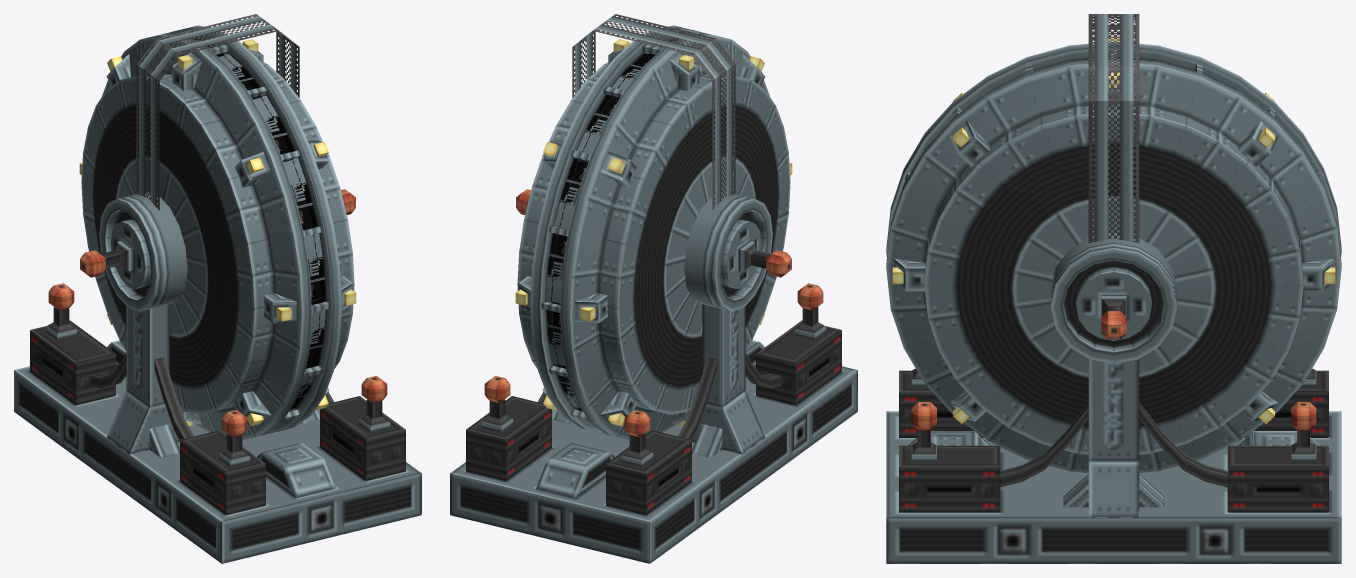
File: fensu2.obj
3 views of the same model, side by side, from view 1: azimuth 30°, elevation 25°; view 2: azimuth 150°, elevation 25°; view 3: azimuth 270°, elevation 25° (orthographic). The views are drawn at different scales.
Parts seen in each view (by area): view 1: Base, Wheel, Plasma, Lights; view 2: Base, Wheel, Plasma, Lights; view 3: Wheel, Base, Lights.
Part boxes in pixels (x1,y1,x2,y2): Base: (14,14,421,563); Wheel: (81,25,354,439); Plasma: (195,40,325,411); Lights: (79,39,356,426); Base: (450,14,857,563); Wheel: (517,25,790,439); Plasma: (546,45,665,408); Lights: (515,39,792,426); Wheel: (886,41,1341,472); Base: (886,14,1341,563); Lights: (892,38,1335,423).
Size of the model in its own units: 6.75 by 10.25 by 9.
